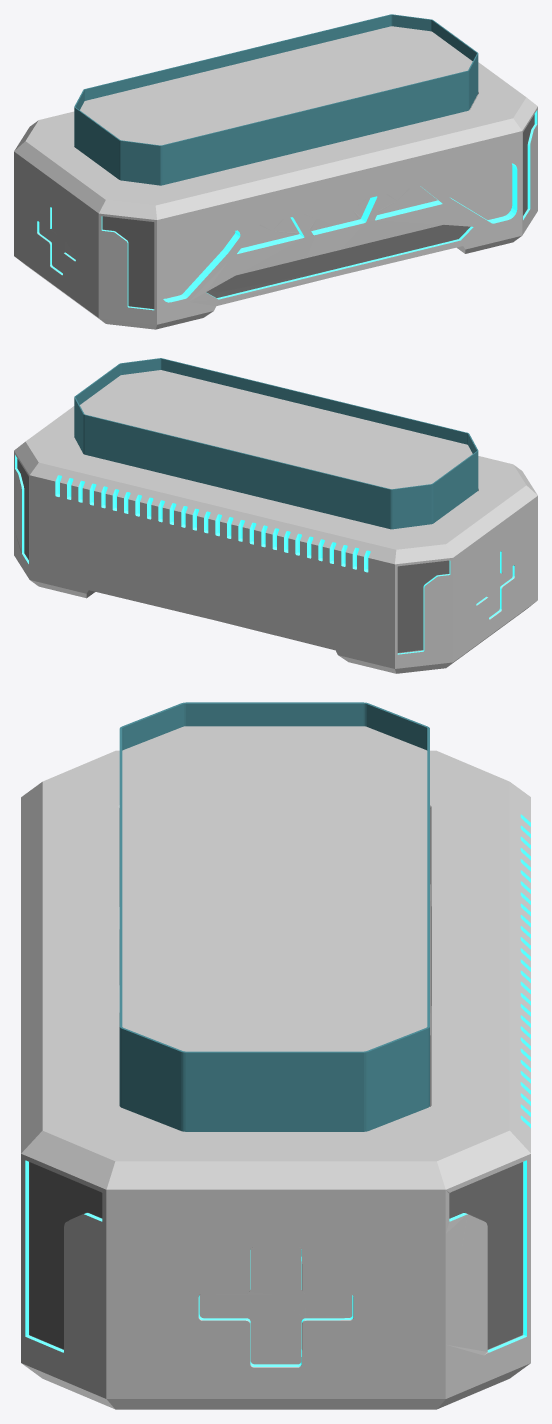
File: VRTable.fbx
3 renders of one model, top to bottom at view 1: azimuth 30°, elevation 25°; view 2: azimuth 150°, elevation 25°; view 3: azimuth 270°, elevation 25°, orthographic. The views are drawn at different scales.
Parts seen in each view (by area): view 1: Box_low, Object010, Object011; view 2: Box_low, Object010, Object011; view 3: Box_low, Object011, Object010.
Boxes of the visible parts, bbox=[...] form: Box_low: bbox=[14, 62, 537, 329]; Object010: bbox=[74, 14, 478, 185]; Object011: bbox=[80, 26, 472, 145]; Box_low: bbox=[14, 406, 537, 673]; Object010: bbox=[74, 358, 478, 529]; Object011: bbox=[80, 370, 472, 489]; Box_low: bbox=[21, 750, 530, 1409]; Object011: bbox=[122, 726, 427, 1051]; Object010: bbox=[119, 702, 429, 1131].
Bounding box in the file's own units: 3977 × 1413 × 2001.
